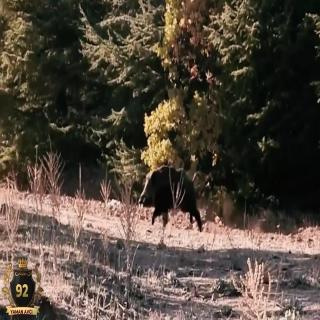Pig: (136, 151, 204, 253)
